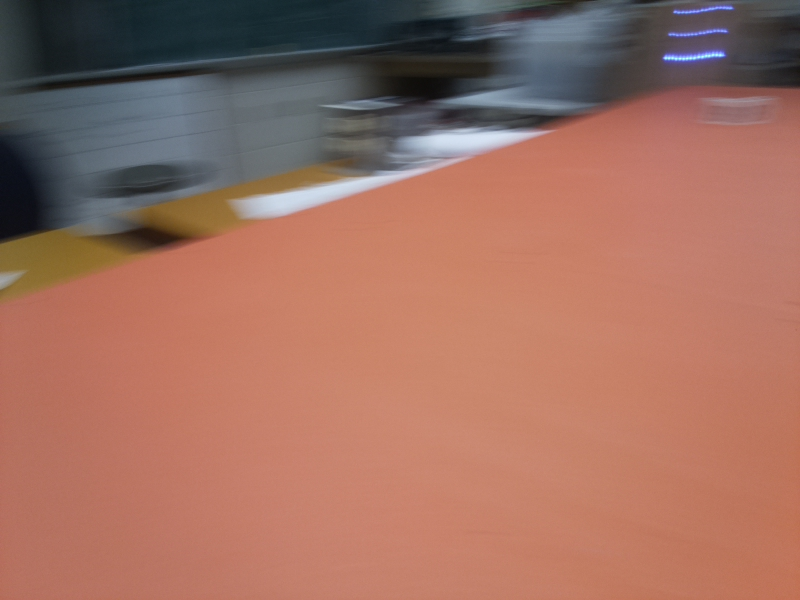blockB: (711, 95, 766, 130)
corner: (664, 5, 722, 88)
